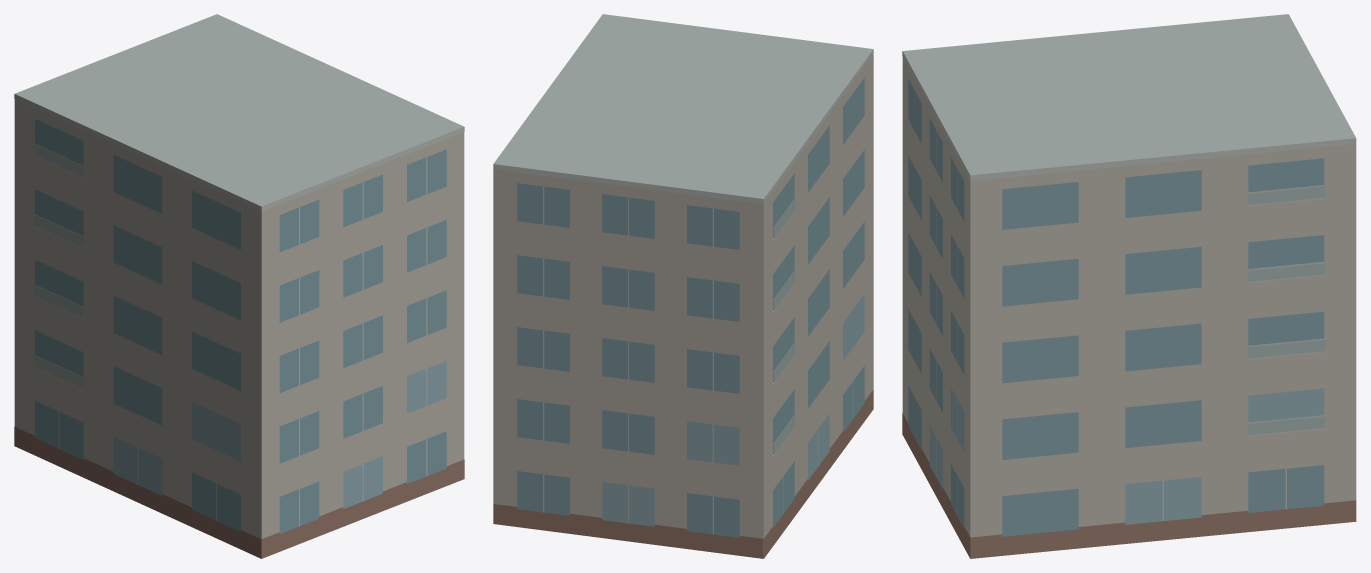
Rendered from survey-upis-32867017.glb.
The picture shows the model from 3 angles, left to right: view 1: azimuth 30°, elevation 25°; view 2: azimuth 150°, elevation 25°; view 3: azimuth 270°, elevation 25°; orthographic projection. The views are drawn at different scales.
Parts seen in each view (by area): view 1: survey-upis-32867017.tmp; view 2: survey-upis-32867017.tmp; view 3: survey-upis-32867017.tmp.
Boxes of the visible parts, left/top/right/bottom form: survey-upis-32867017.tmp: left=14, top=14, right=464, bottom=558; survey-upis-32867017.tmp: left=493, top=14, right=873, bottom=558; survey-upis-32867017.tmp: left=902, top=14, right=1356, bottom=558.
Bounding box in the file's own units: 15 × 16.61 × 17.83.
